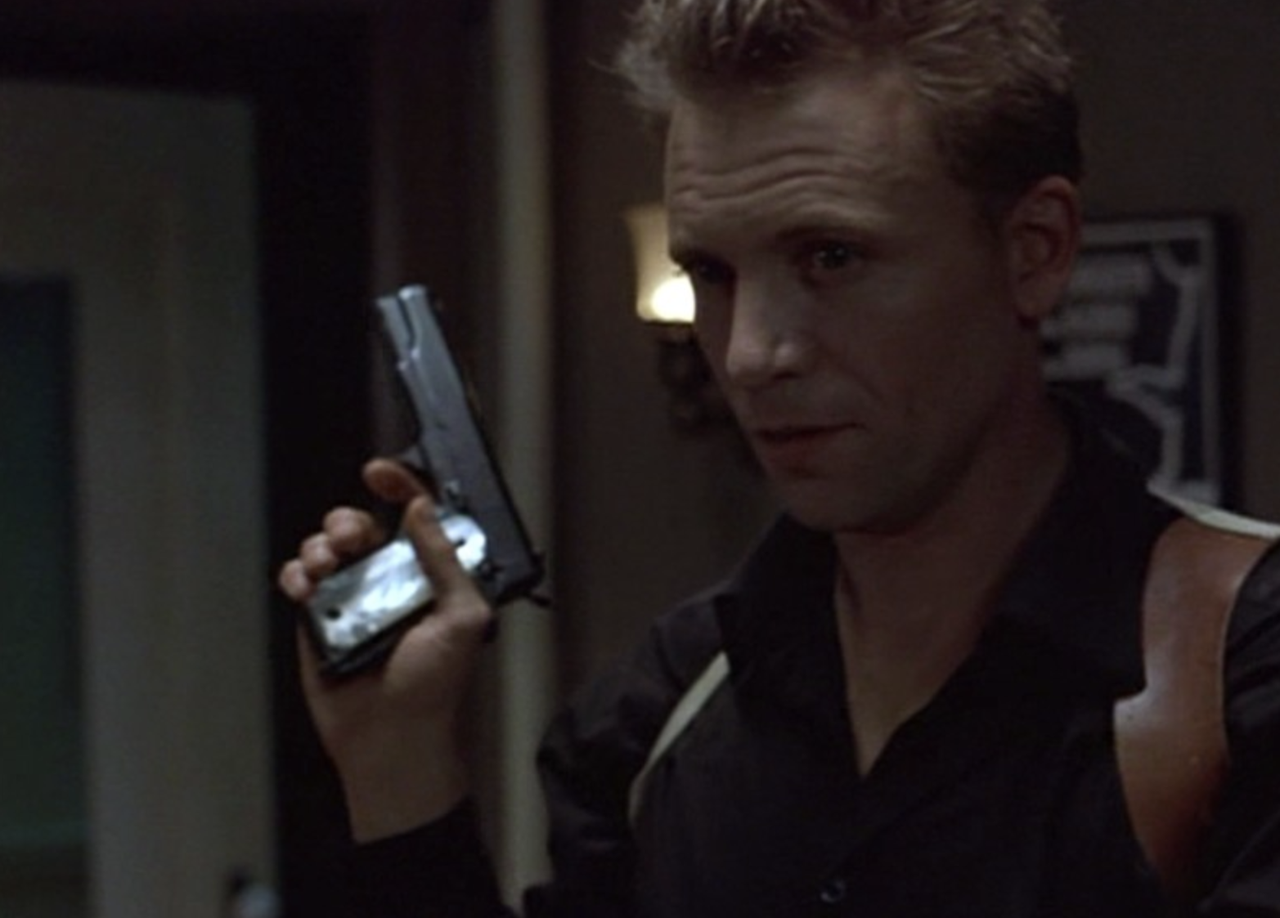gun_007: (254, 271, 568, 690)
